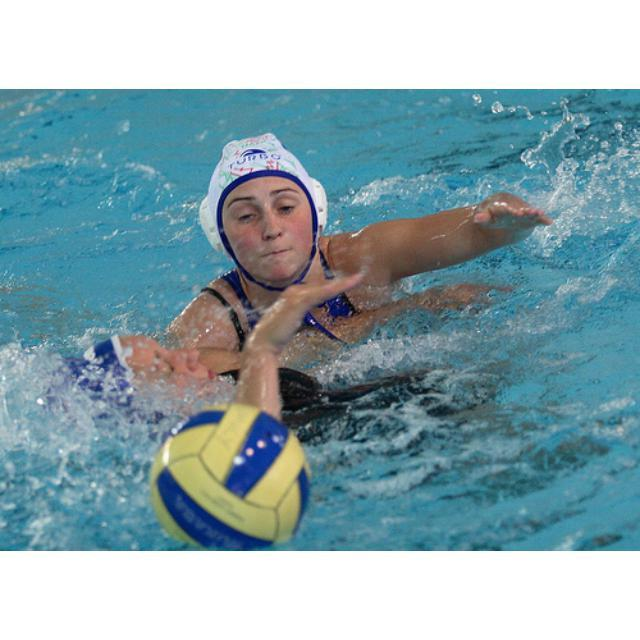human: (135, 129, 545, 354), (72, 328, 306, 441)
